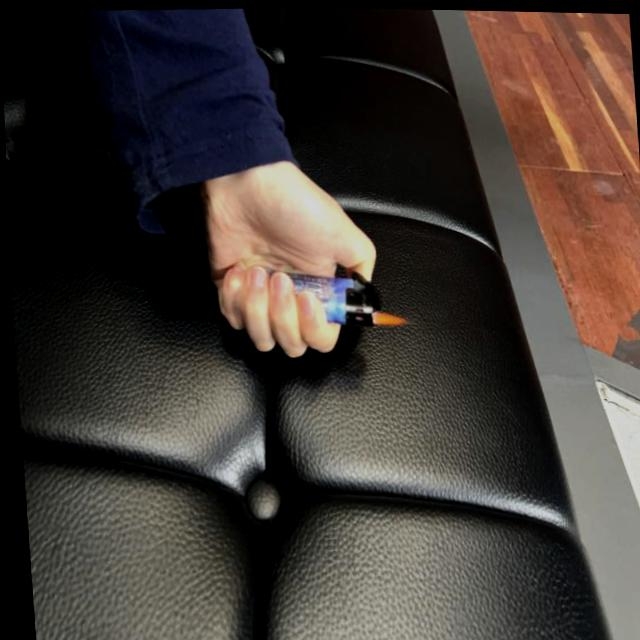Fire: (367, 308, 402, 325)
